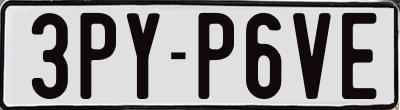3: (31, 13, 72, 105)
6: (244, 13, 283, 105)
E: (341, 10, 378, 98)
P: (80, 10, 117, 99), (197, 11, 233, 101)
V: (291, 11, 331, 102)
Y: (126, 12, 161, 100)
